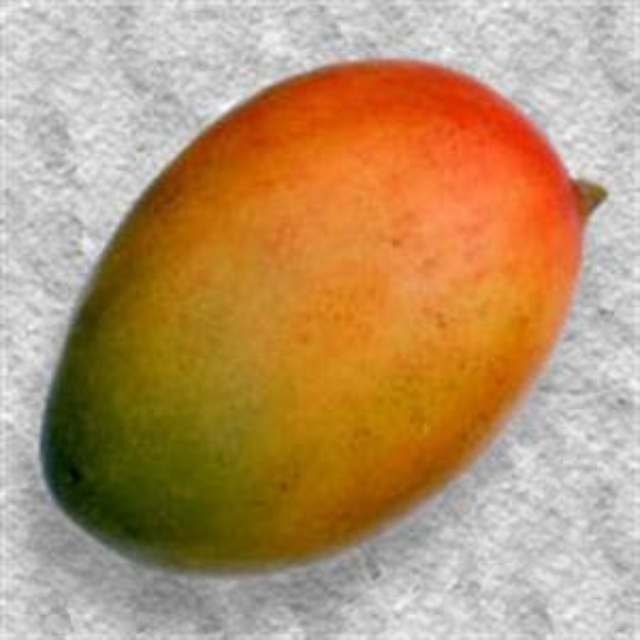mango: (44, 58, 604, 571)
